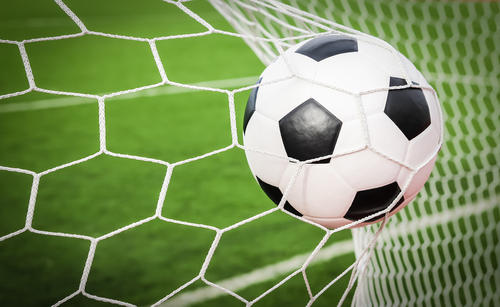football: (239, 29, 444, 234)
